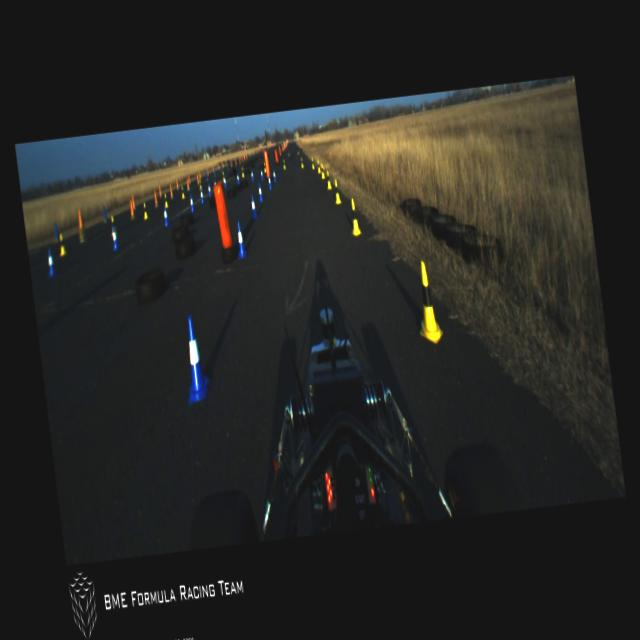blue_cone: (178, 315, 212, 403), (234, 221, 247, 258), (46, 248, 56, 275), (110, 226, 119, 248), (250, 195, 256, 217), (257, 182, 263, 201), (188, 194, 194, 212), (162, 208, 168, 225), (199, 188, 205, 203), (267, 174, 272, 189), (206, 182, 211, 196), (250, 170, 255, 182), (272, 168, 276, 182), (259, 167, 263, 180), (236, 170, 240, 183), (223, 174, 227, 187), (250, 169, 254, 180)
unknown_cone: (76, 208, 84, 231), (128, 199, 134, 219), (152, 189, 158, 207), (131, 194, 136, 208), (168, 183, 172, 198), (158, 183, 162, 197), (186, 177, 190, 190), (174, 177, 178, 189)
yellow_cone: (412, 260, 444, 344), (348, 198, 360, 235), (333, 178, 341, 204), (58, 233, 66, 254), (109, 215, 116, 234), (326, 170, 332, 188), (142, 202, 148, 218), (320, 163, 325, 178), (163, 194, 168, 206), (316, 159, 320, 173), (180, 186, 184, 198), (222, 170, 226, 182), (198, 178, 202, 189), (310, 158, 314, 168), (300, 157, 304, 167), (240, 167, 244, 176), (282, 159, 285, 169), (263, 162, 266, 172)
